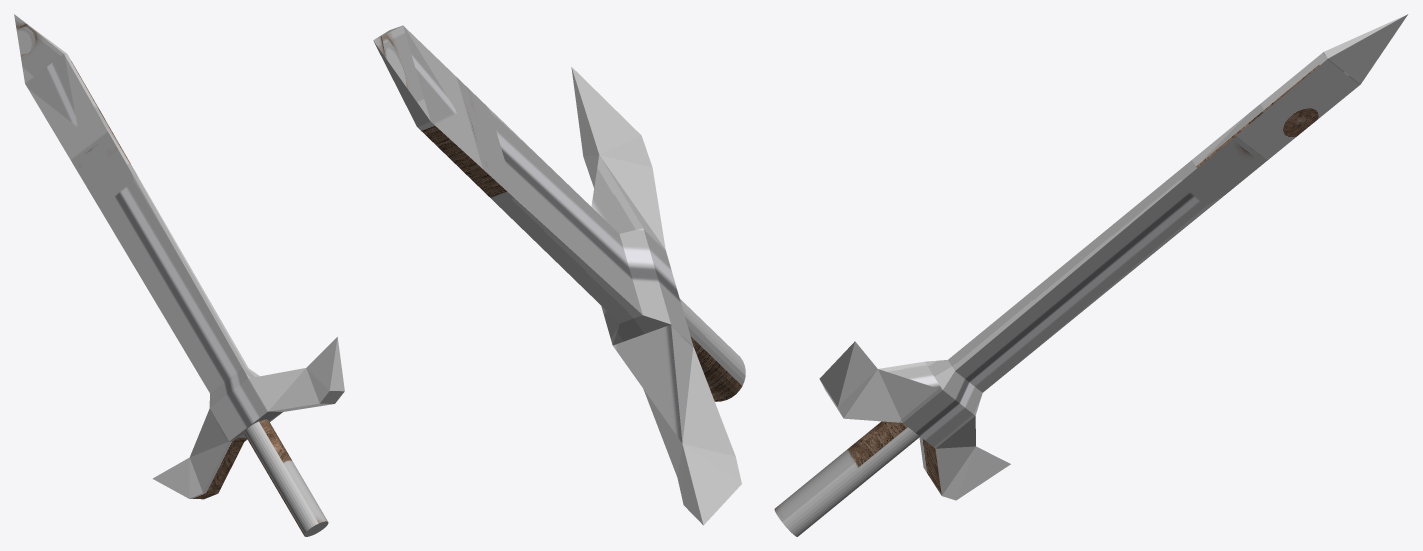
The model's file is Protagonista121.obj.
The picture shows the model from 3 angles, left to right: view 1: azimuth 30°, elevation 25°; view 2: azimuth 150°, elevation 25°; view 3: azimuth 270°, elevation 25°; orthographic projection. The views are drawn at different scales.
Visible parts, largest first — view 1: Cube; view 2: Cube; view 3: Cube.
Boxes of the visible parts, x1,y1,x2,y2 form: Cube: (14,14,344,536); Cube: (373,25,745,525); Cube: (774,14,1408,536).
Size of the model in its own units: 0.4104 by 1.14 by 1.36.
1 material, 1 textured.
